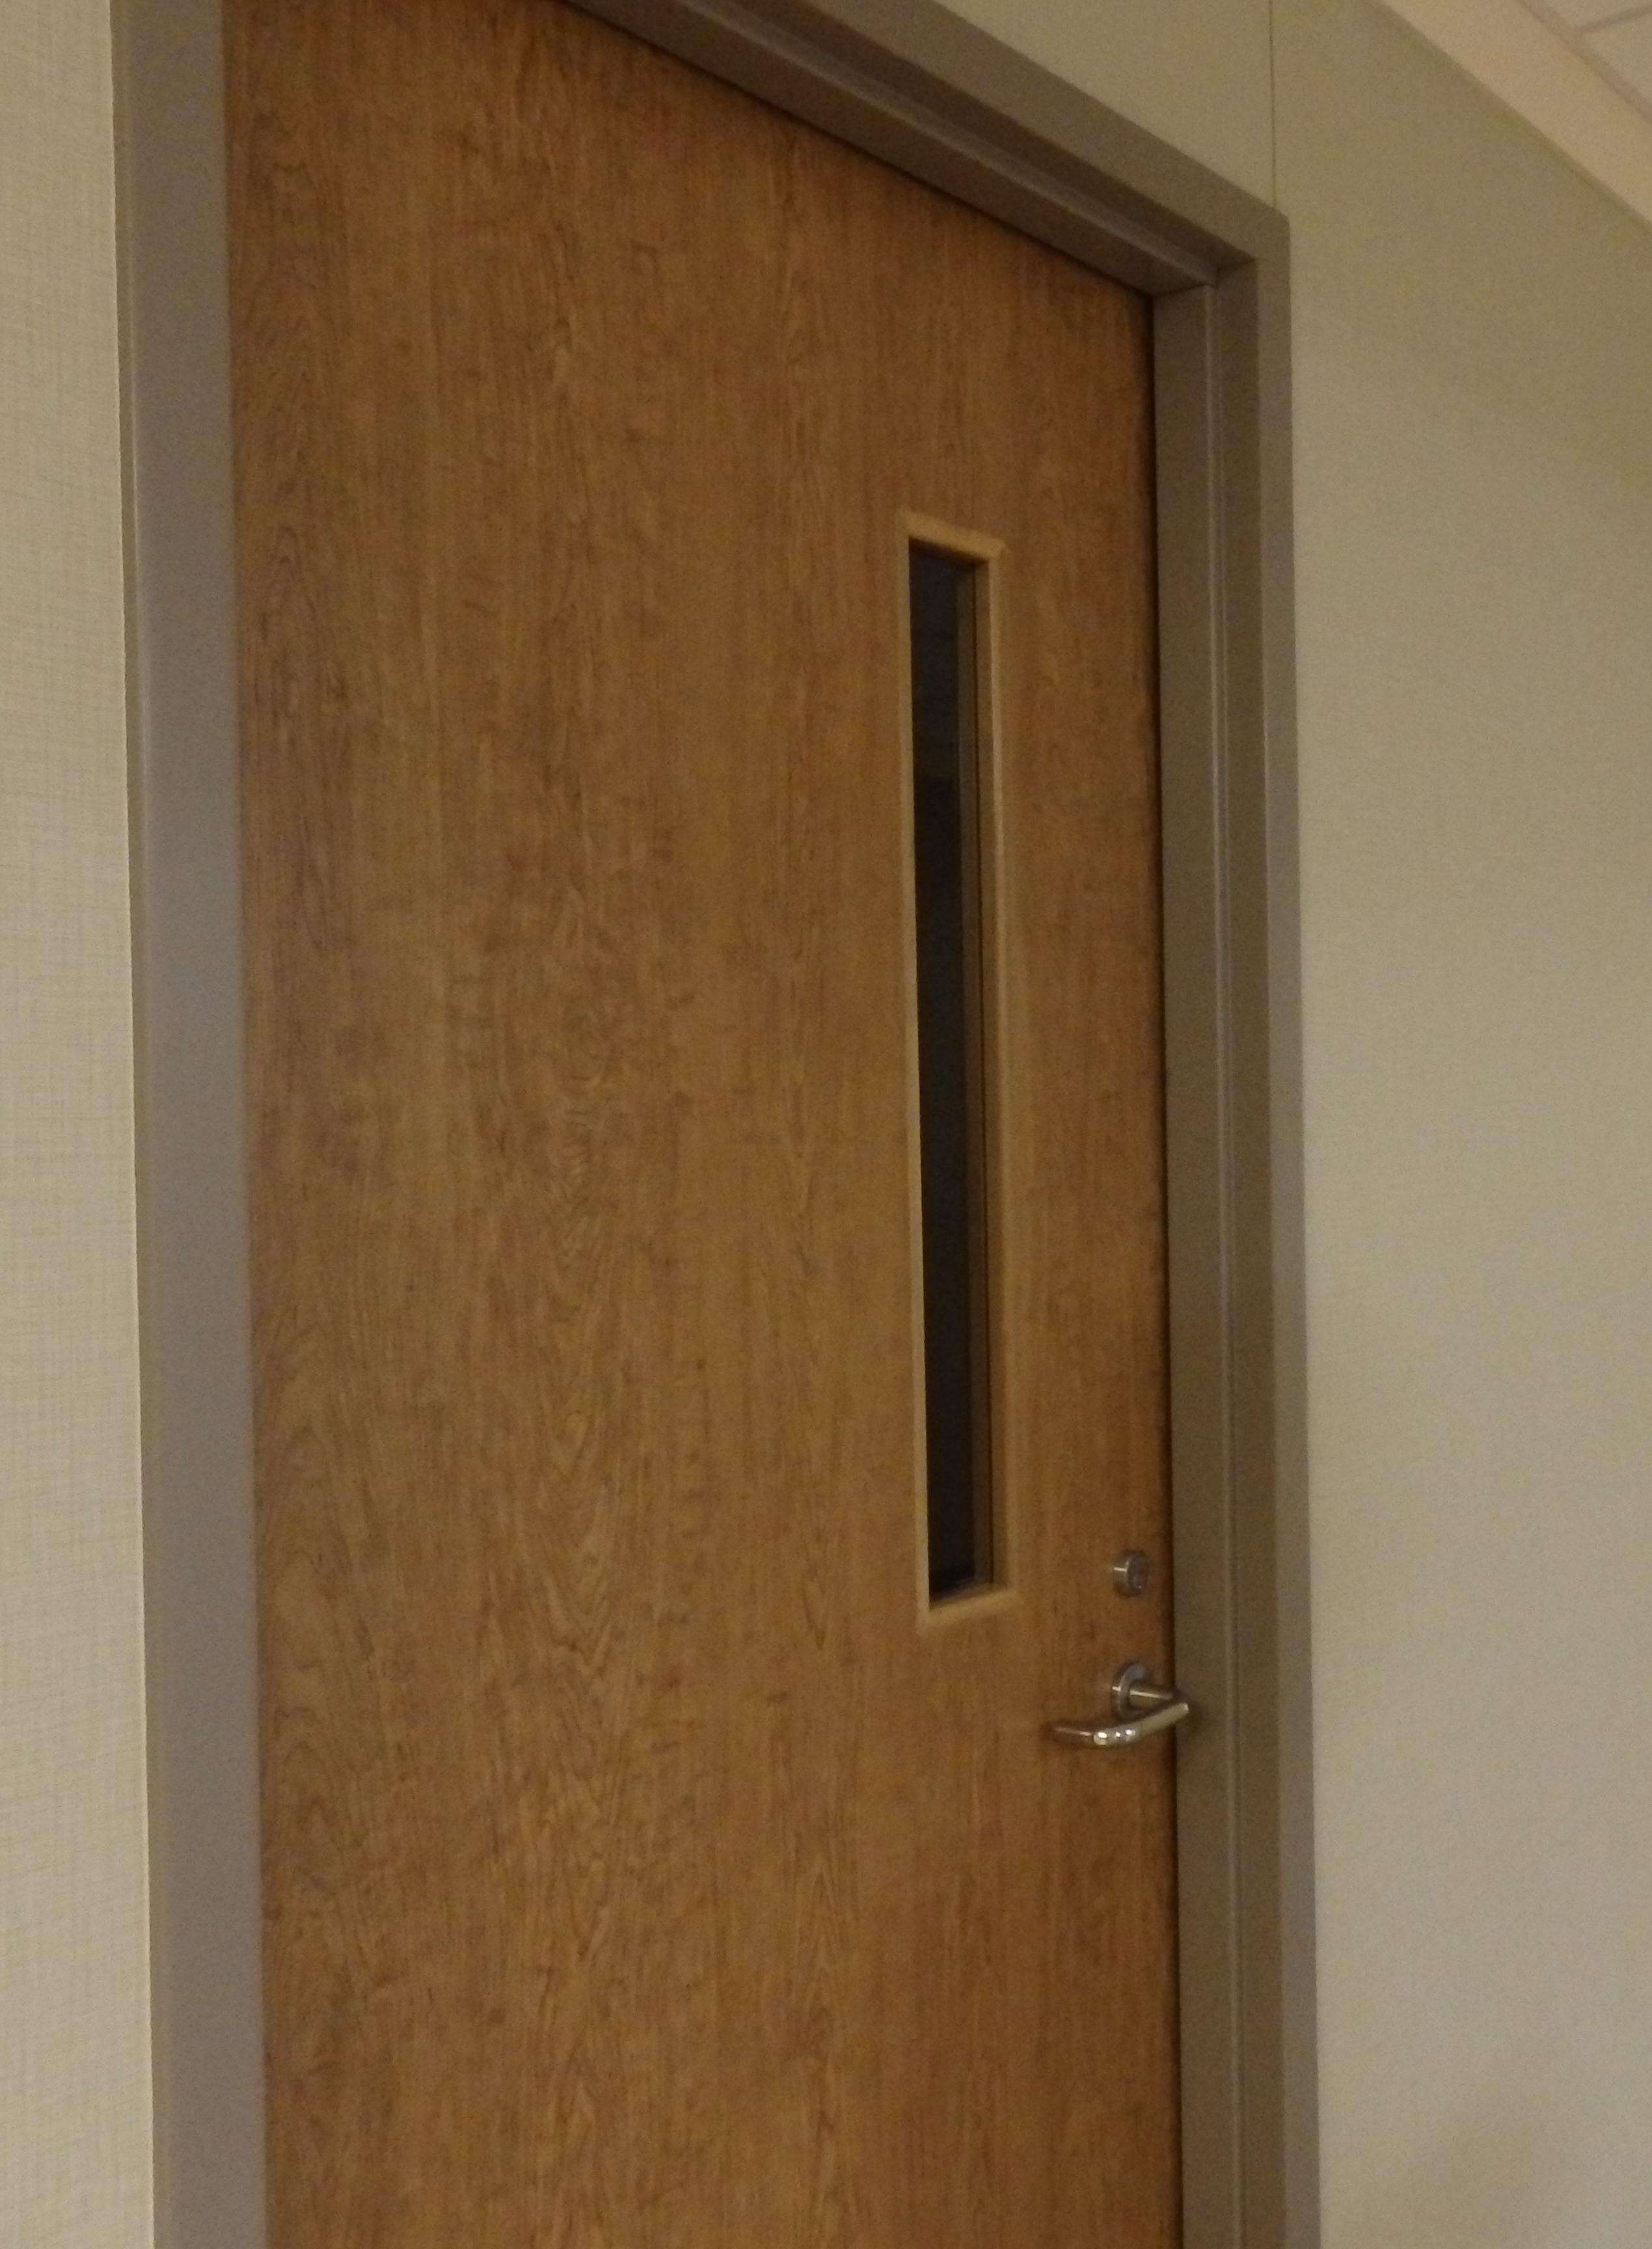door: (206, 5, 1208, 2242)
